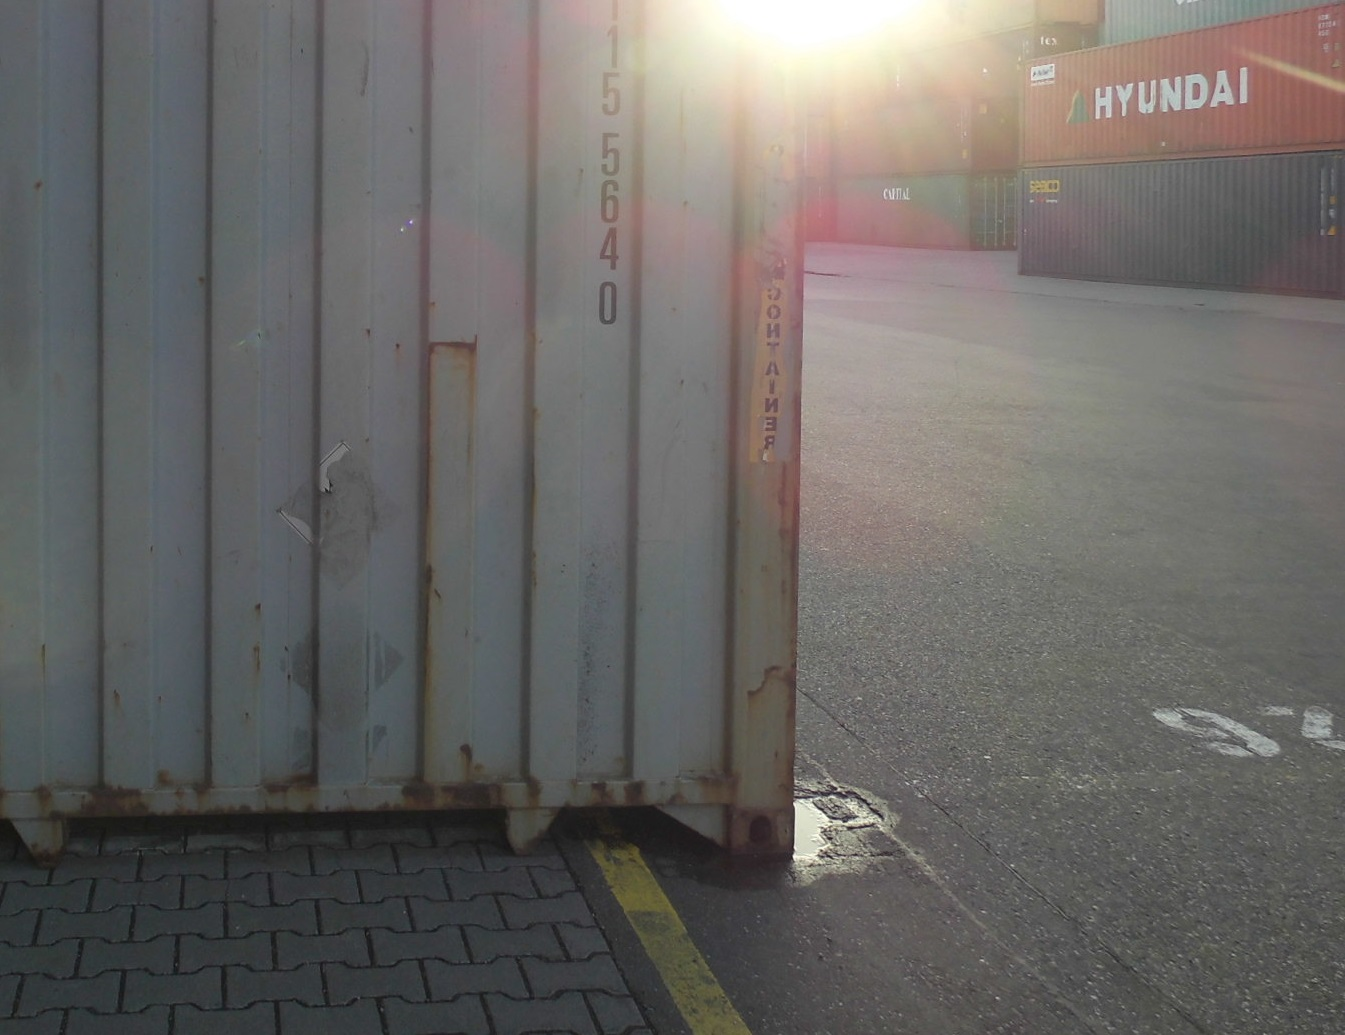container_no_door: (7, 1, 812, 862)
